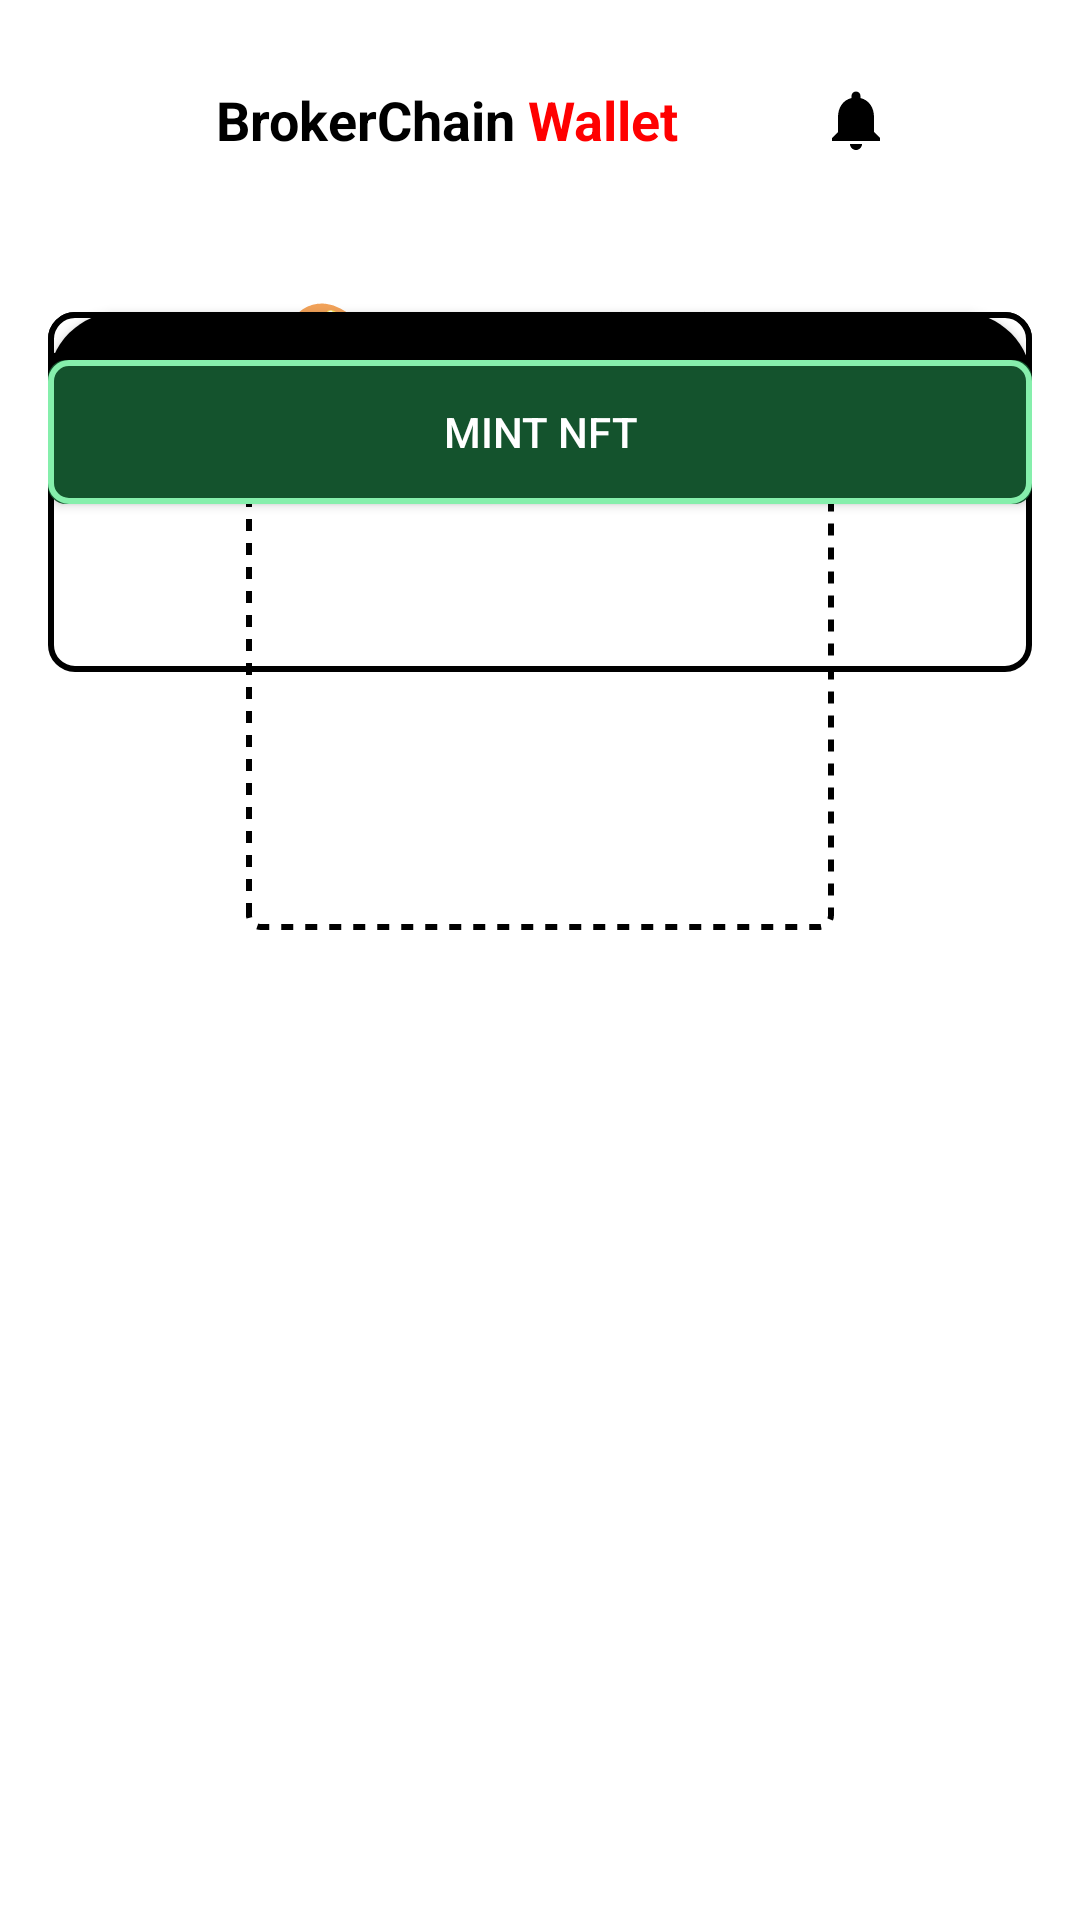

Named icons in this screenshot (1080 x 1920) and their centers, (x=x, y=y):
Notifications: (x=856, y=120)
